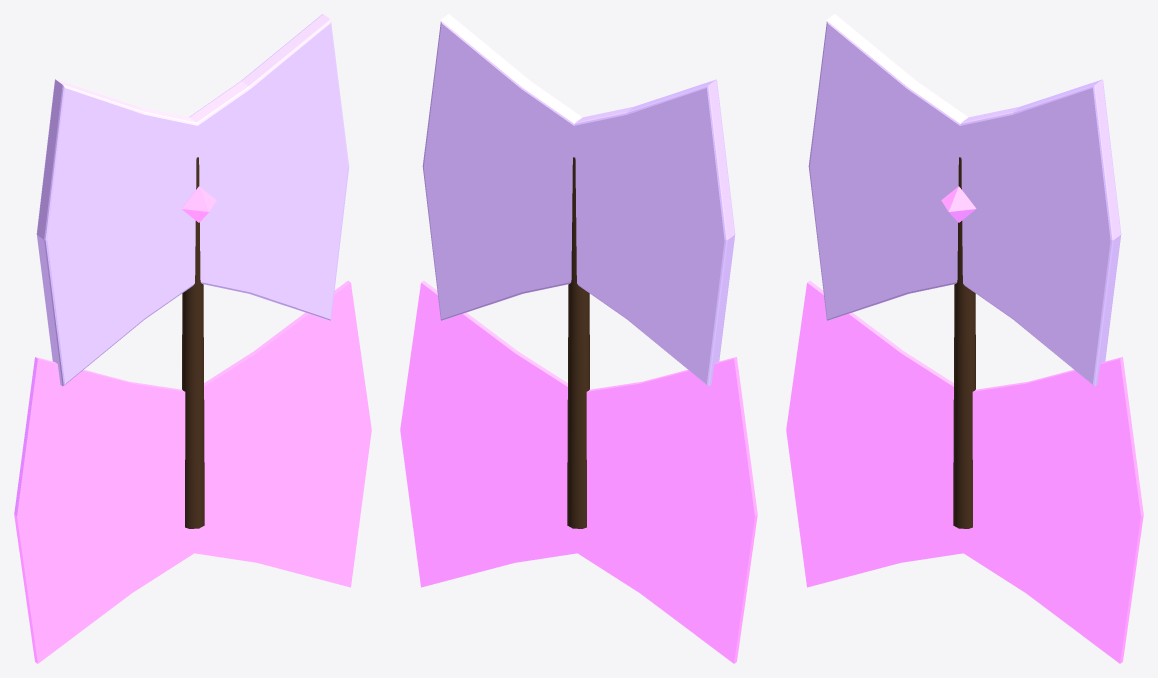
The model's file is axe_f3_2d216843.glb.
3 views of the same model, side by side, from view 1: azimuth 30°, elevation 25°; view 2: azimuth 150°, elevation 25°; view 3: azimuth 330°, elevation 25° (orthographic).
Visible parts, largest first — view 1: m7_ow80_, m2_, m1_, m0_ow80_, m6_gm160_; view 2: m7_ow80_, m2_, m1_, m0_ow80_; view 3: m7_ow80_, m1_, m2_, m0_ow80_, m6_gm160_.
Boxes of the visible parts, box(x1,y1,x2,y2) form: m7_ow80_: box(36, 14, 349, 386); m2_: box(14, 357, 194, 663); m1_: box(194, 280, 371, 587); m0_ow80_: box(182, 157, 204, 528); m6_gm160_: box(181, 186, 216, 222); m7_ow80_: box(422, 14, 735, 386); m2_: box(577, 357, 757, 663); m1_: box(400, 280, 577, 587); m0_ow80_: box(567, 157, 589, 528); m7_ow80_: box(808, 14, 1121, 386); m1_: box(963, 357, 1143, 663); m2_: box(786, 280, 963, 587); m0_ow80_: box(953, 157, 975, 528); m6_gm160_: box(941, 186, 976, 222).
Size of the model in its own units: 2.01 by 3.11 by 0.22.
